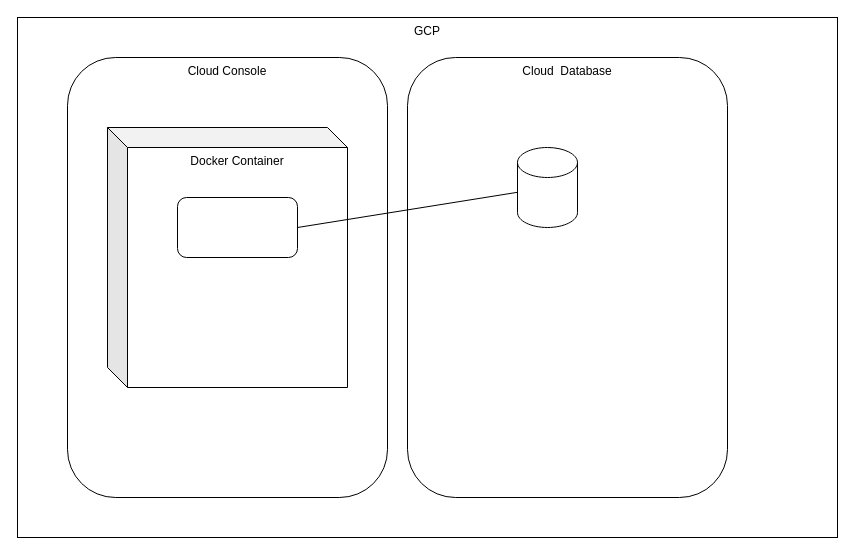
The diagram is 855 pixels wide and 555 high, and some of its shapes have lost their labels. Here are the shapes that lost their labels. From the top down, the box of each, then its label:
(516, 146, 578, 228): DB
(176, 196, 298, 258): Flask API
